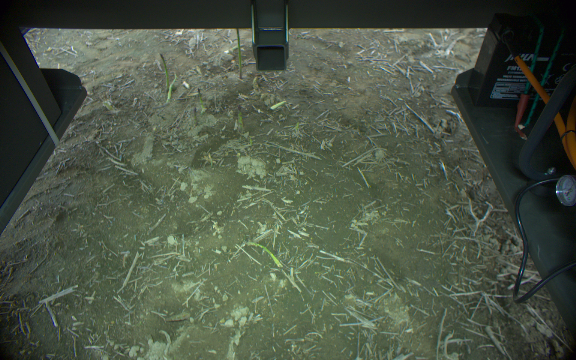aspa: (241, 237, 285, 269), (234, 27, 245, 80), (157, 51, 170, 89), (163, 71, 179, 100), (233, 101, 246, 133), (190, 86, 205, 112)
